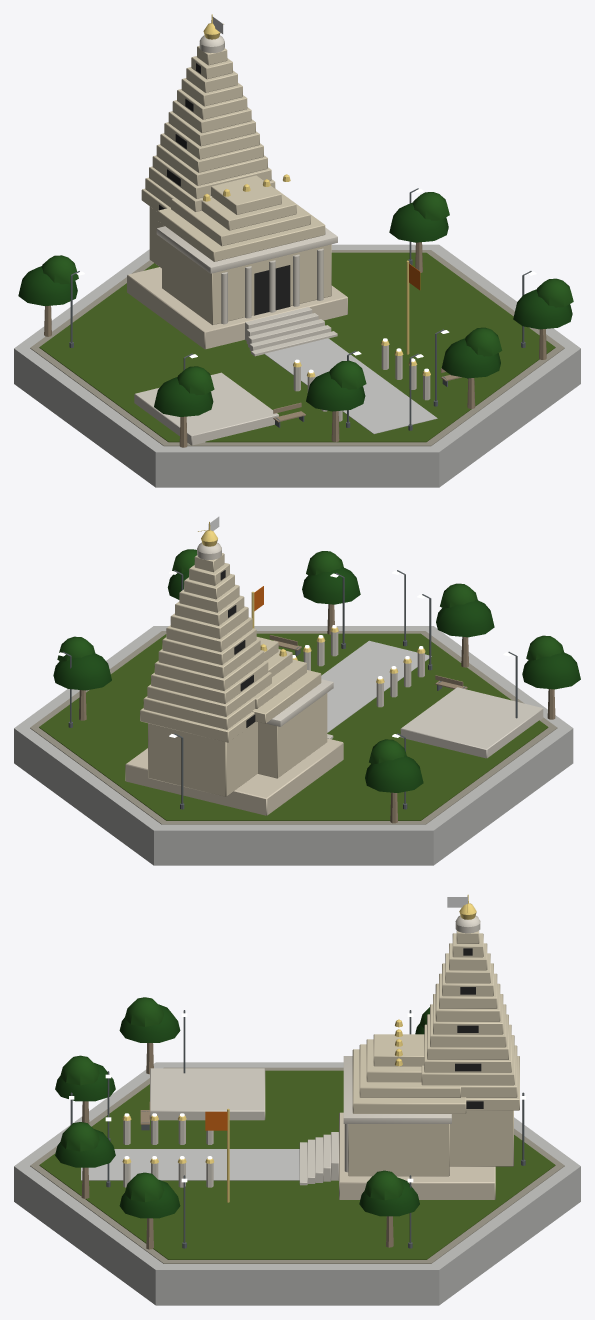
The model's file is worship_mandir.glb.
3 views of the same model, one above another, from view 1: azimuth 30°, elevation 25°; view 2: azimuth 150°, elevation 25°; view 3: azimuth 270°, elevation 25° (orthographic).
Parts seen in each view (by area): view 1: stone, turf, wall_concrete, leaf, pavers, wood, dark, steel_dark, gold; view 2: stone, turf, wall_concrete, leaf, pavers, wood, steel_dark, gold; view 3: stone, turf, wall_concrete, leaf, pavers, wood, steel_dark, gold, dark.
Boxes of the visible parts, x1,y1,x2,y2 form: stone: [127, 35, 430, 445]; turf: [39, 252, 555, 442]; wall_concrete: [14, 244, 580, 487]; leaf: [18, 192, 573, 416]; pavers: [30, 250, 564, 446]; wood: [44, 242, 546, 447]; dark: [159, 63, 290, 315]; steel_dark: [69, 188, 531, 430]; gold: [203, 14, 430, 377]; stone: [125, 542, 543, 815]; turf: [39, 633, 548, 820]; wall_concrete: [14, 626, 573, 865]; leaf: [53, 549, 580, 792]; pavers: [30, 631, 557, 824]; wood: [79, 604, 555, 823]; steel_dark: [62, 570, 517, 809]; gold: [198, 521, 425, 683]; stone: [123, 915, 519, 1199]; turf: [39, 1070, 555, 1259]; wall_concrete: [14, 1062, 580, 1305]; leaf: [55, 997, 429, 1218]; pavers: [30, 1067, 564, 1263]; wood: [81, 1043, 393, 1249]; steel_dark: [70, 1010, 525, 1248]; gold: [122, 894, 476, 1202]; dark: [455, 948, 483, 1108].
Bounding box in the file's own units: 21.31 × 14.7 × 24.6.
